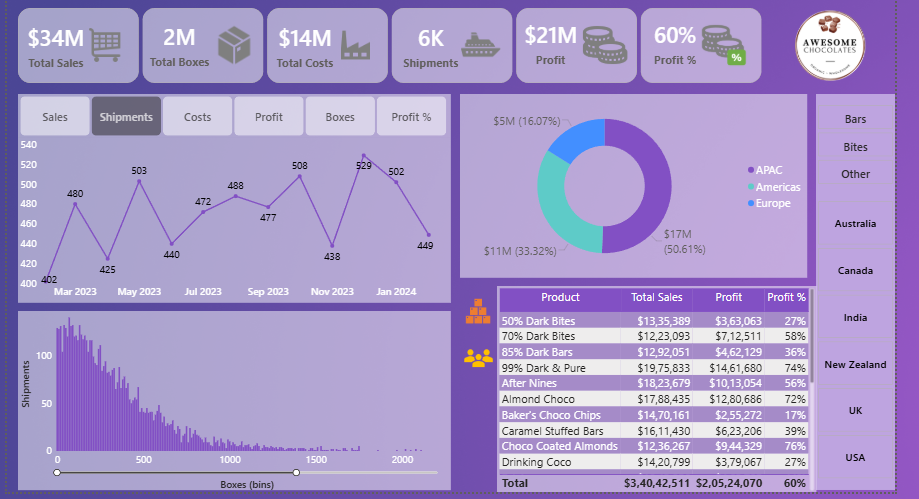

Layout of this report page (visuals, bound fields, positions):
{"tool":"powerbi","page":{"name":"SalesReport","canvas":[1920,1080],"ordinal":1},"visuals":[{"type":"shape","box":[1748.1,221,171.9,855.1],"z":0},{"type":"cardVisual","fields":{"Data":["_Measures.Total  Sales","_Measures.Total Boxes","_Measures.Total Costs","_Measures.Total Shipments Count","_Measures.Profit","_Measures.Profit %"]},"box":[23.8,34.6,1611.4,162],"z":1000},{"type":"image","box":[1635.1,34.6,285.1,162],"z":2000},{"type":"lineChart","fields":{"Y":["_Measures.Total  Sales"],"Category":["calendar.Start of Month"]},"box":[23.8,315.4,935.3,356.4],"z":3000},{"type":"advancedSlicerVisual","fields":{"Values":["Measures Selector.Measures Selector"]},"box":[23.8,220.3,935.3,95],"z":4000},{"type":"columnChart","fields":{"Category":["shipments.Boxes (bins)"],"Y":["_Measures.Shipments"]},"box":[23.8,689,935.3,386.6],"z":5000},{"type":"donutChart","fields":{"Category":["locations.Region"],"Y":["_Measures.Total  Sales"]},"box":[977.9,221,750.1,397.4],"z":6000},{"type":"image","box":[977.9,741.2,80.4,100.5],"z":7000},{"type":"image","box":[977.9,634,78.1,107.2],"z":8000},{"type":"tableEx","title":"products","fields":{"Values":["products.Product","_Measures.Total  Sales","_Measures.Profit","_Measures.Profit %"]},"box":[1058.2,634,689.9,446.5],"z":10000},{"type":"advancedSlicerVisual","fields":{"Values":["products.Category"]},"box":[1748.1,238.9,171.9,180.8],"z":11000},{"type":"advancedSlicerVisual","fields":{"Values":["locations.Geo"]},"box":[1748.1,446.5,171.9,609.5],"z":12000}]}

Visuals, with their boxes on the page's 1920x1080 design canvas (x1, y1, x2, y2). These are canvas units, not pixel positions in the 919x499 screenshot, which may show the page scaled, cropped or inside an application window:
shape: bbox=(1748, 221, 1920, 1076)
cardVisual - _Measures.Total  Sales x _Measures.Total Boxes: bbox=(24, 35, 1635, 197)
image: bbox=(1635, 35, 1920, 197)
lineChart - _Measures.Total  Sales x calendar.Start of Month: bbox=(24, 315, 959, 672)
advancedSlicerVisual - Measures Selector.Measures Selector: bbox=(24, 220, 959, 315)
columnChart - shipments.Boxes (bins) x _Measures.Shipments: bbox=(24, 689, 959, 1076)
donutChart - locations.Region x _Measures.Total  Sales: bbox=(978, 221, 1728, 618)
image: bbox=(978, 741, 1058, 842)
image: bbox=(978, 634, 1056, 741)
"products" tableEx: bbox=(1058, 634, 1748, 1080)
advancedSlicerVisual - products.Category: bbox=(1748, 239, 1920, 420)
advancedSlicerVisual - locations.Geo: bbox=(1748, 446, 1920, 1056)
